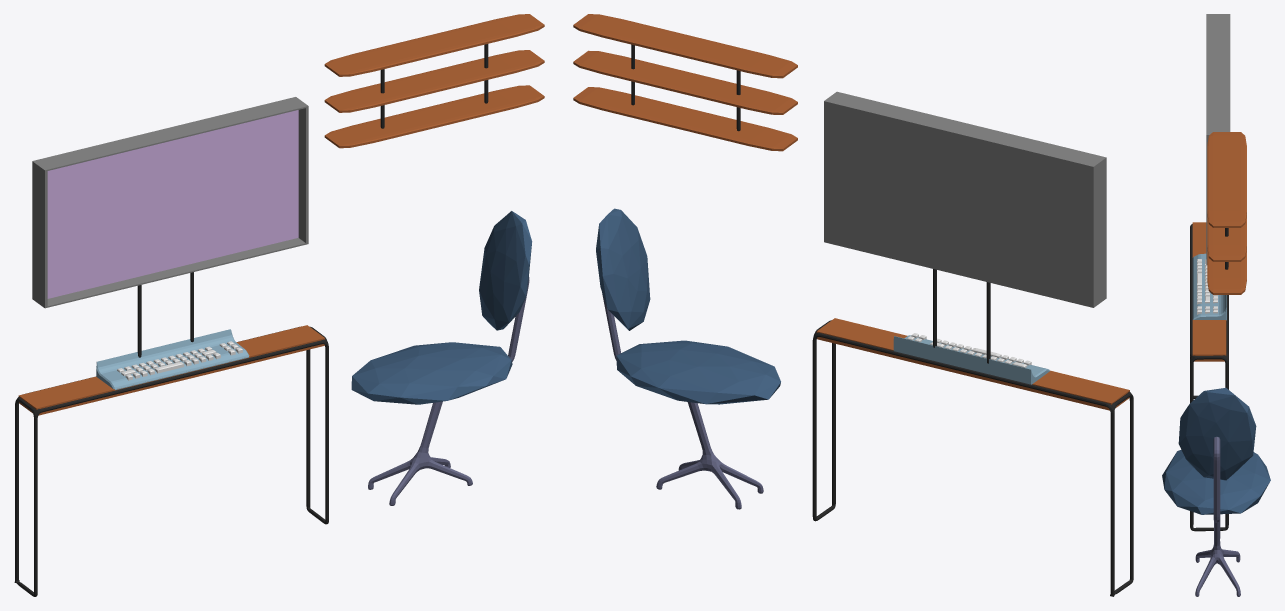
File: OfficeLevel.fbx
3 renders of one model, left to right at view 1: azimuth 30°, elevation 25°; view 2: azimuth 150°, elevation 25°; view 3: azimuth 270°, elevation 25°, orthographic. The views are drawn at different scales.
Visible parts, largest first — view 1: Cube.050, Icosphere, Cube.069, Cube.004, Icosphere.002, Cube.067, Cube.068, Cube.017, Cube.018, Cube.012; view 2: Cube.050, Icosphere, Cube.069, Cube.004, Icosphere.002, Cube.067, Cube.068, Cube.017, Cube.018, Cube.012; view 3: Icosphere.002, Icosphere, Cube.069, Cube.050, Cube.017, Cube.068, Cube.067, Cube.004, Cube.012, Cube.018, Cube.016.
Part boxes in pixels (bbox=[...]): Cube.050: bbox=[32, 97, 308, 308]; Icosphere: bbox=[351, 342, 512, 404]; Cube.069: bbox=[324, 14, 544, 76]; Cube.004: bbox=[14, 326, 328, 596]; Icosphere.002: bbox=[479, 211, 532, 330]; Cube.067: bbox=[324, 85, 544, 148]; Cube.068: bbox=[324, 50, 544, 112]; Cube.017: bbox=[18, 325, 324, 415]; Cube.018: bbox=[96, 329, 249, 390]; Cube.012: bbox=[368, 401, 472, 505]; Cube.050: bbox=[824, 91, 1106, 307]; Icosphere: bbox=[616, 340, 780, 404]; Cube.069: bbox=[573, 14, 797, 78]; Cube.004: bbox=[812, 320, 1133, 596]; Icosphere.002: bbox=[596, 208, 650, 330]; Cube.067: bbox=[573, 87, 797, 151]; Cube.068: bbox=[573, 50, 797, 114]; Cube.017: bbox=[816, 318, 1129, 410]; Cube.018: bbox=[893, 335, 1049, 384]; Cube.012: bbox=[656, 402, 763, 509]; Icosphere.002: bbox=[1178, 388, 1256, 480]; Icosphere: bbox=[1162, 450, 1270, 514]; Cube.069: bbox=[1207, 132, 1246, 227]; Cube.050: bbox=[1206, 14, 1230, 264]; Cube.017: bbox=[1192, 222, 1226, 361]; Cube.068: bbox=[1207, 214, 1246, 261]; Cube.067: bbox=[1207, 248, 1246, 294]; Cube.004: bbox=[1190, 224, 1228, 531]; Cube.012: bbox=[1195, 520, 1240, 596]; Cube.018: bbox=[1192, 253, 1226, 320]; Cube.016: bbox=[1213, 436, 1220, 522].
Size of the model in its own units: 7124 by 5715 by 1369.
